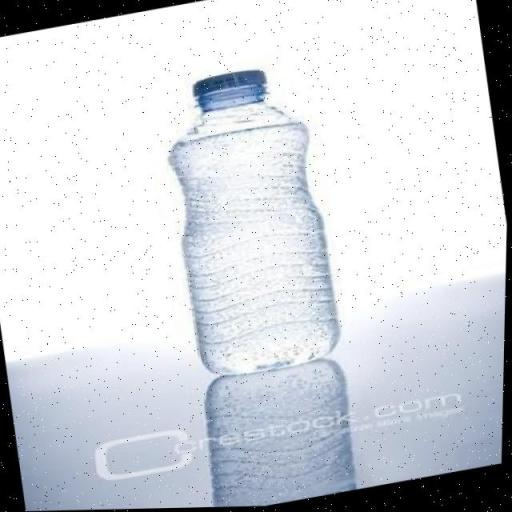plastic: (150, 56, 356, 382)
